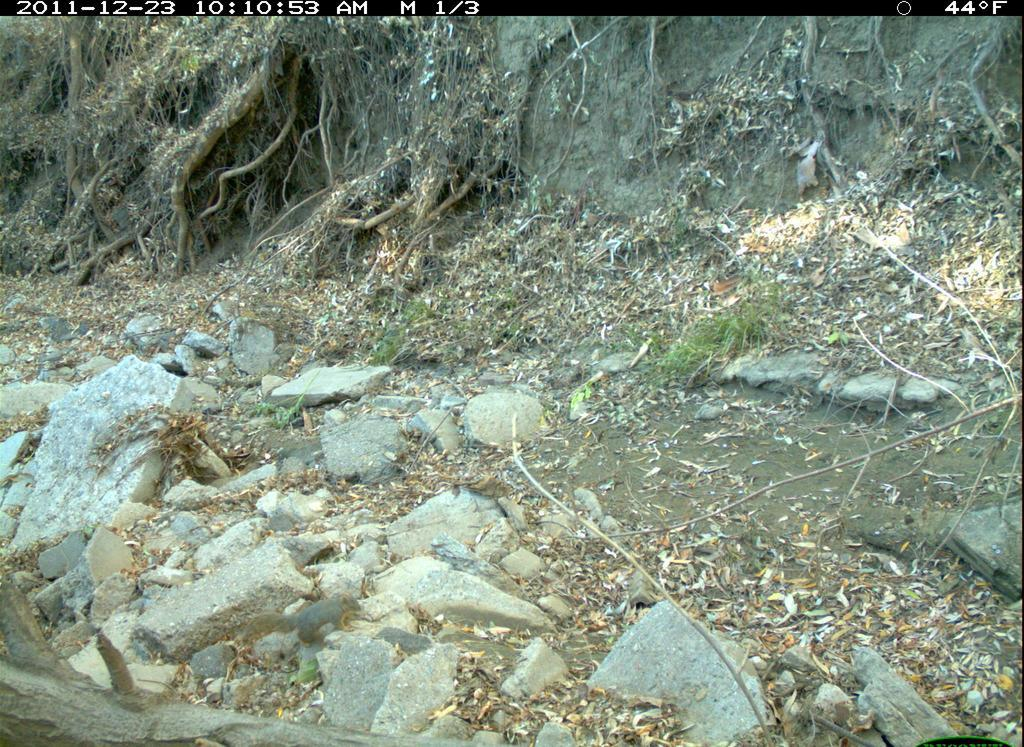squirrel: (246, 593, 370, 653)
